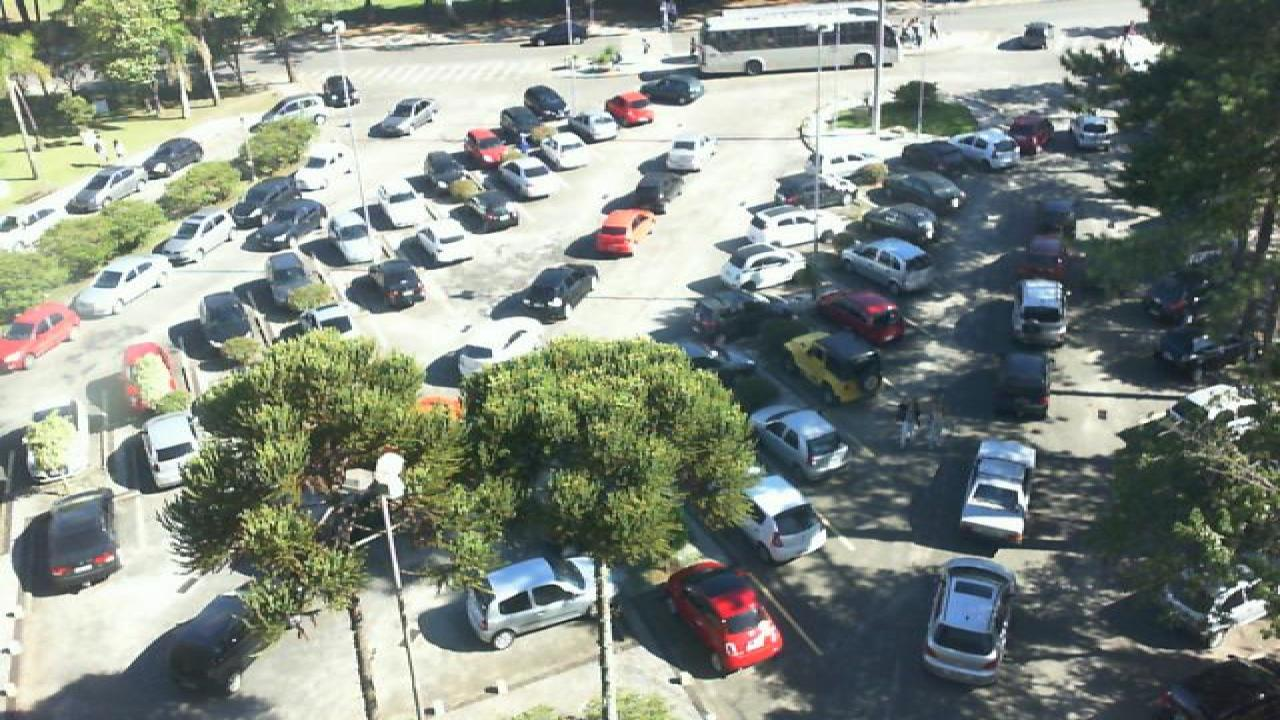Car: (458, 555, 622, 650), (662, 560, 786, 679), (922, 557, 1018, 686), (166, 592, 278, 692), (732, 474, 832, 568), (742, 402, 854, 482), (954, 438, 1036, 546), (38, 493, 124, 588), (784, 329, 878, 405), (76, 253, 170, 318), (458, 314, 556, 374), (138, 408, 206, 492), (0, 303, 84, 371), (810, 287, 908, 345), (20, 410, 92, 488), (838, 236, 938, 289), (692, 288, 790, 340), (514, 263, 600, 321), (120, 340, 186, 414), (156, 209, 236, 266), (198, 290, 264, 358), (1010, 276, 1070, 350), (720, 244, 814, 290), (234, 200, 320, 250), (436, 184, 522, 233), (748, 202, 834, 248), (846, 201, 940, 243), (66, 164, 142, 215), (940, 125, 1024, 170), (876, 169, 972, 208), (998, 351, 1052, 416), (240, 175, 326, 215), (1162, 330, 1244, 371), (362, 259, 426, 309), (596, 207, 658, 258), (342, 178, 406, 226), (240, 284, 294, 340), (132, 137, 204, 179), (802, 146, 888, 180), (390, 219, 452, 266), (496, 153, 558, 199), (776, 174, 858, 208), (244, 91, 324, 125), (1144, 273, 1196, 325), (902, 140, 980, 174), (1004, 111, 1058, 160), (458, 125, 518, 169), (374, 98, 440, 138), (1020, 233, 1076, 280), (304, 215, 356, 265), (422, 150, 484, 191), (626, 170, 686, 212), (304, 292, 360, 336), (530, 128, 588, 170), (264, 253, 318, 297), (1068, 108, 1122, 152), (562, 108, 622, 143), (602, 90, 656, 127), (644, 73, 704, 106), (668, 134, 718, 173), (524, 17, 592, 45), (522, 84, 570, 117), (320, 73, 362, 107), (1008, 22, 1050, 48)
